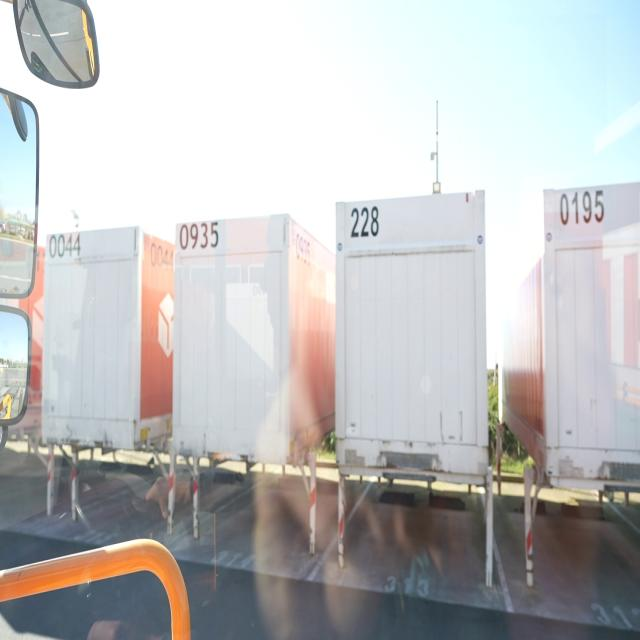Code: (558, 181, 602, 228), (177, 217, 219, 254), (347, 202, 383, 241), (292, 226, 314, 271), (49, 231, 83, 260), (147, 239, 173, 273)
